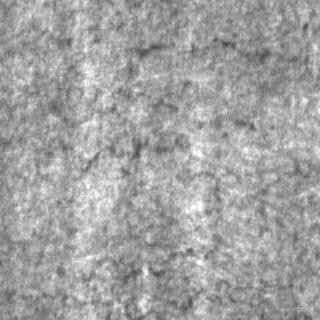crazing: (15, 23, 274, 173), (0, 223, 294, 317)
